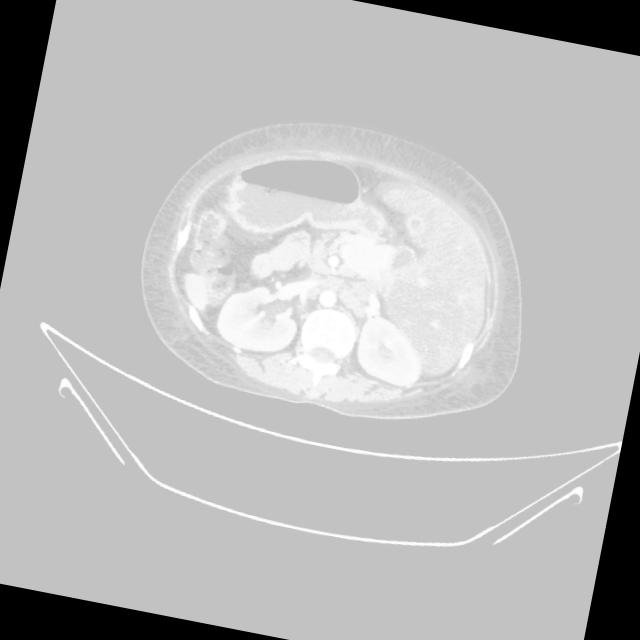NORMAL: (111, 71, 595, 461)
